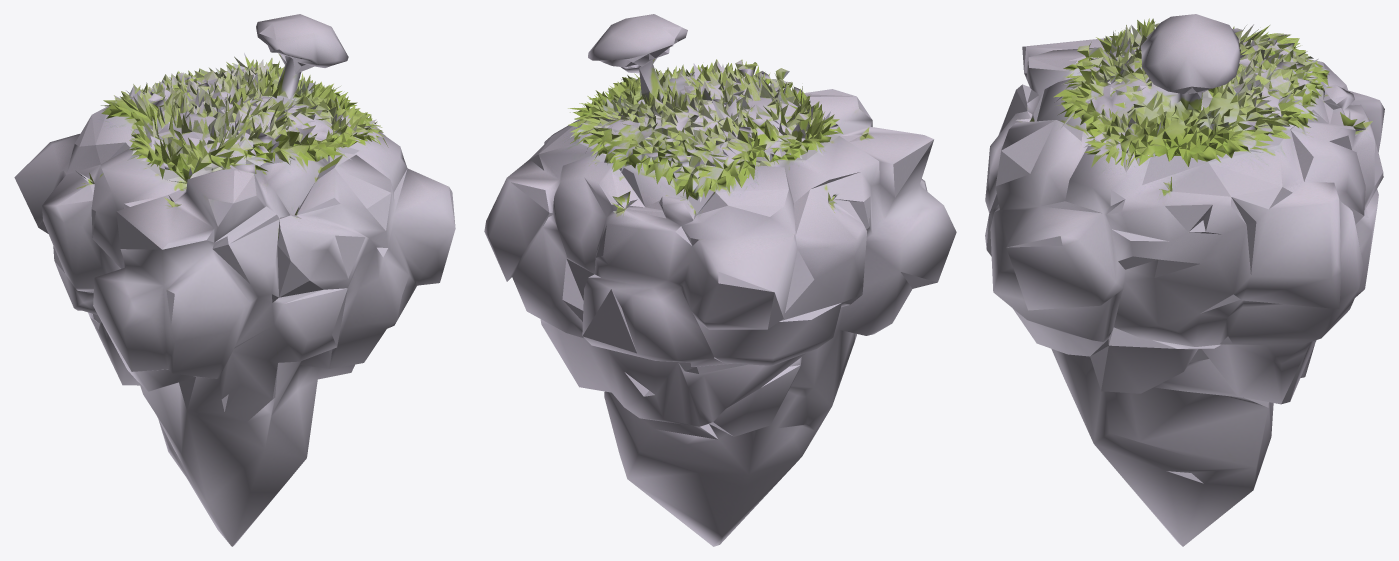
Rendered from islet.fbx.
The picture shows the model from 3 angles, left to right: view 1: azimuth 30°, elevation 25°; view 2: azimuth 150°, elevation 25°; view 3: azimuth 270°, elevation 25°; orthographic projection. The views are drawn at different scales.
Parts seen in each view (by area): view 1: Mesh_0; view 2: Mesh_0; view 3: Mesh_0.
Boxes of the visible parts, x1,y1,x2,y2 form: Mesh_0: (14, 14, 455, 546); Mesh_0: (484, 14, 956, 546); Mesh_0: (985, 14, 1384, 546).
Size of the model in its own units: 132 by 189 by 123.
Materials: 1 (1 with a texture image).
